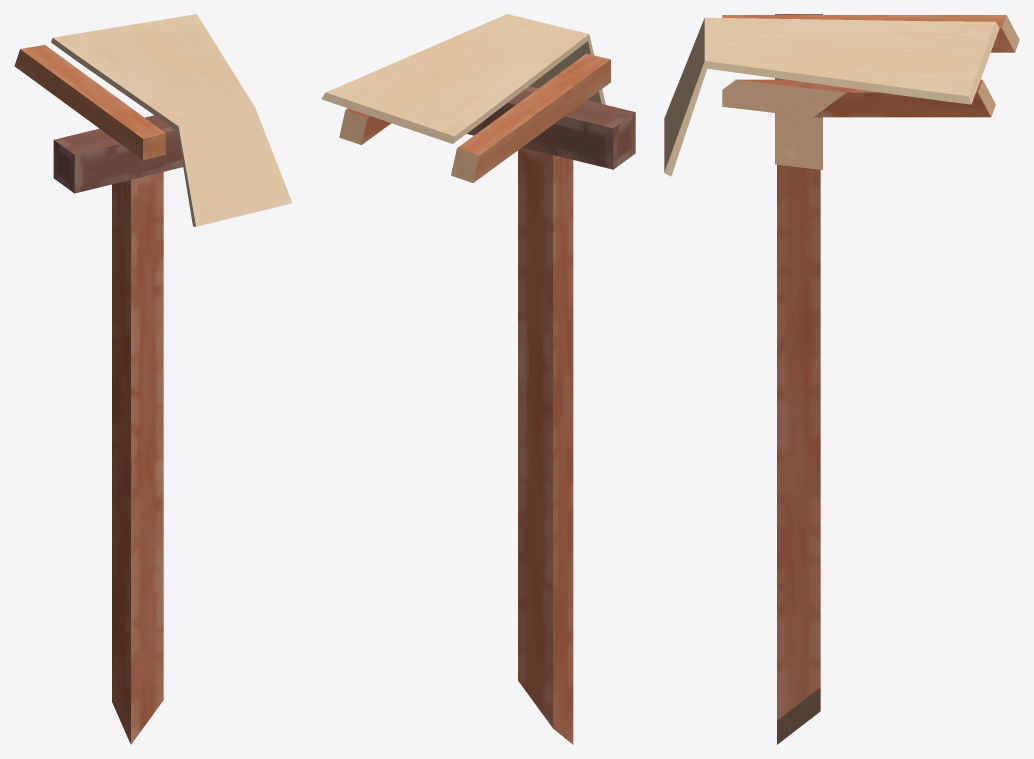
File: pergola_s02.fbx
3 renders of one model, left to right at view 1: azimuth 30°, elevation 25°; view 2: azimuth 150°, elevation 25°; view 3: azimuth 270°, elevation 25°, orthographic. The views are drawn at different scales.
Visible parts, largest first — view 1: pergola_s02; view 2: pergola_s02; view 3: pergola_s02.
Part boxes in pixels (x1=…): pergola_s02: x1=14, y1=14, x2=292, y2=744; pergola_s02: x1=321, y1=14, x2=635, y2=744; pergola_s02: x1=664, y1=14, x2=1019, y2=744.
Bounding box in the file's own units: 2.55 × 7.44 × 3.25.
